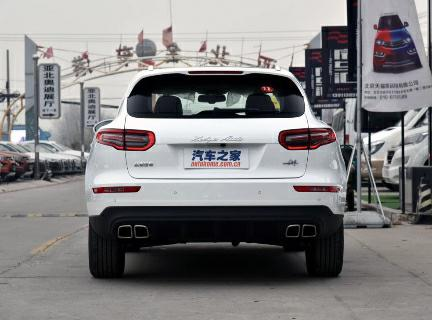众泰-SR7: (82, 67, 354, 282)
